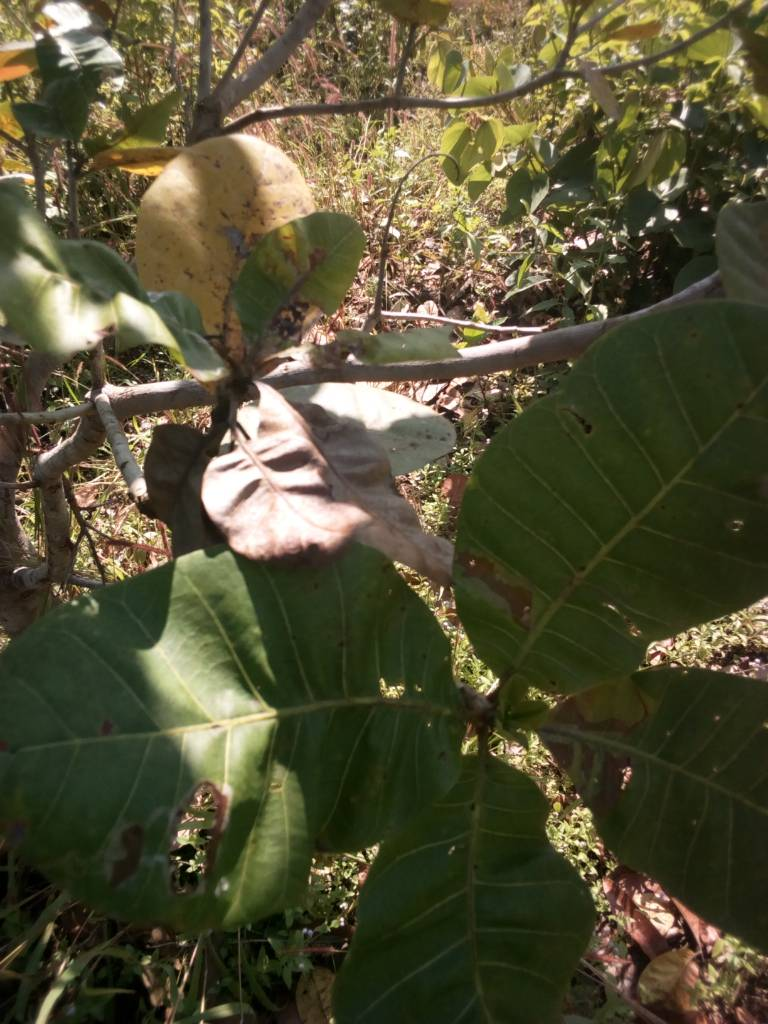Anthracnose: (136, 128, 319, 367)
